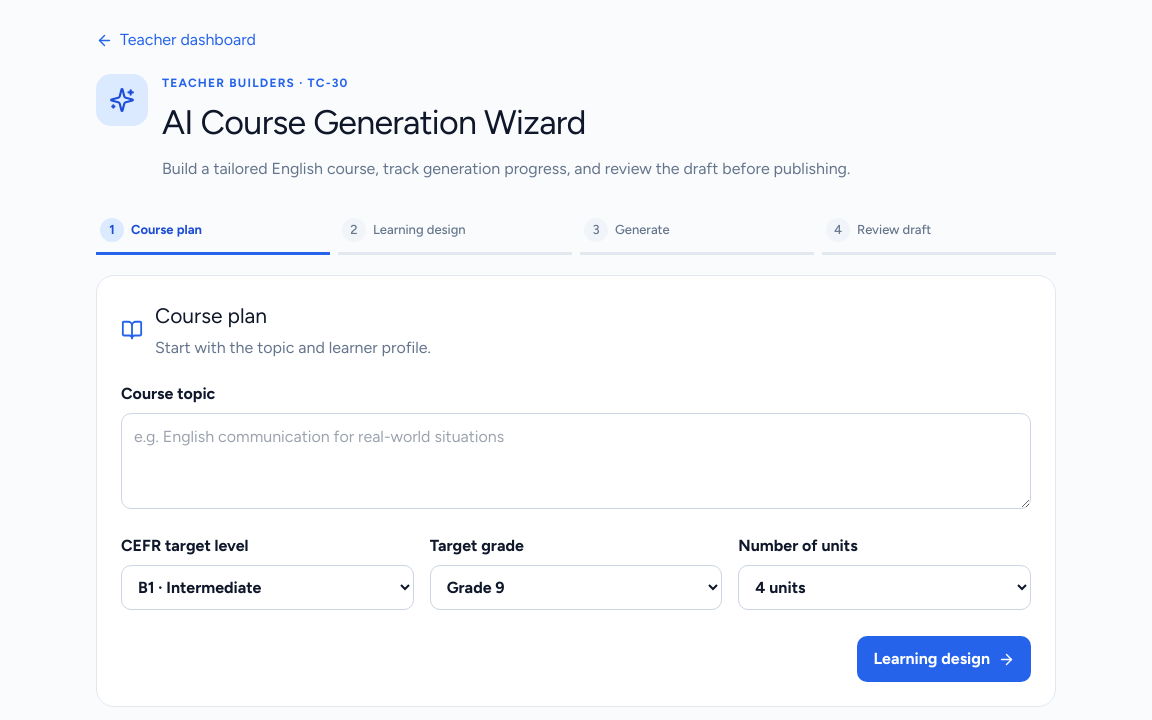
Test case: teacher AI builders integration › sends a complete AI course-generation payload and renders job-step progress
The image size is (1152, 720).
Type "Everyday English conversations" into the text box labelled "Course topic" at (576, 461), box x1=121 y1=413 x2=1031 y2=509
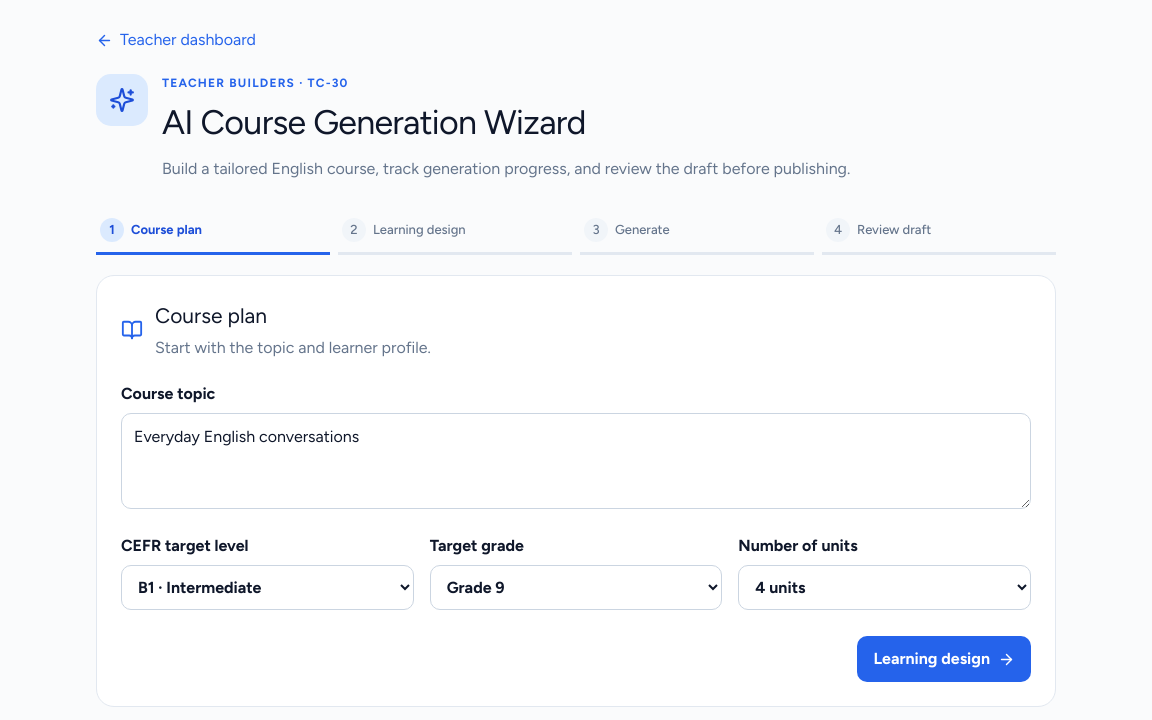
Click the button "Learning design" at (944, 659), box x1=857 y1=636 x2=1031 y2=682
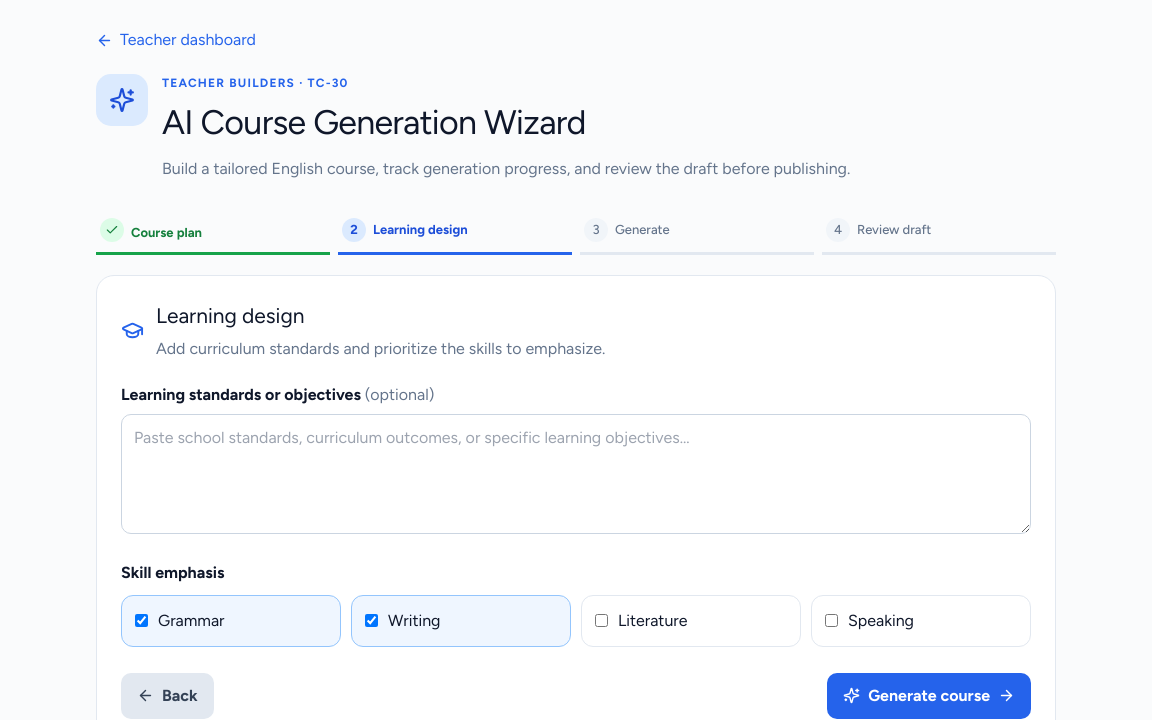
Replace the text in the text box labelled "Learning standards or objectives (optional)" with "Ask and answer polite questions" at (576, 474), box x1=121 y1=414 x2=1031 y2=534
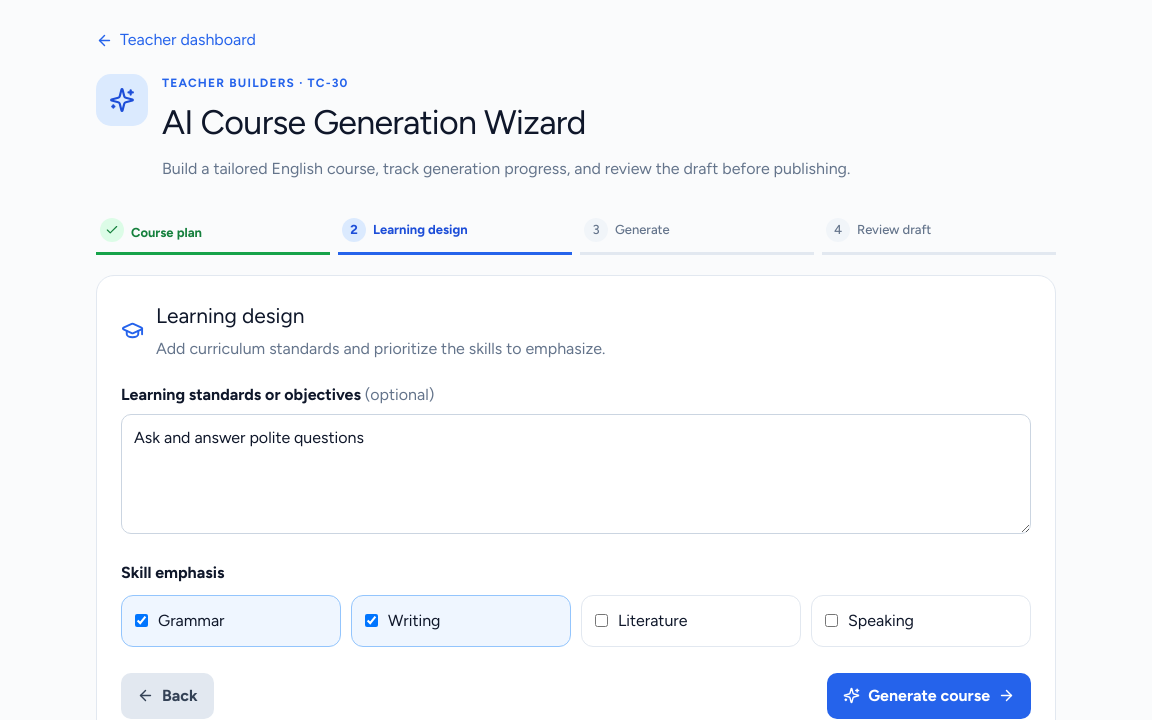
Click the button "Generate course" at (929, 696), box x1=827 y1=673 x2=1031 y2=719
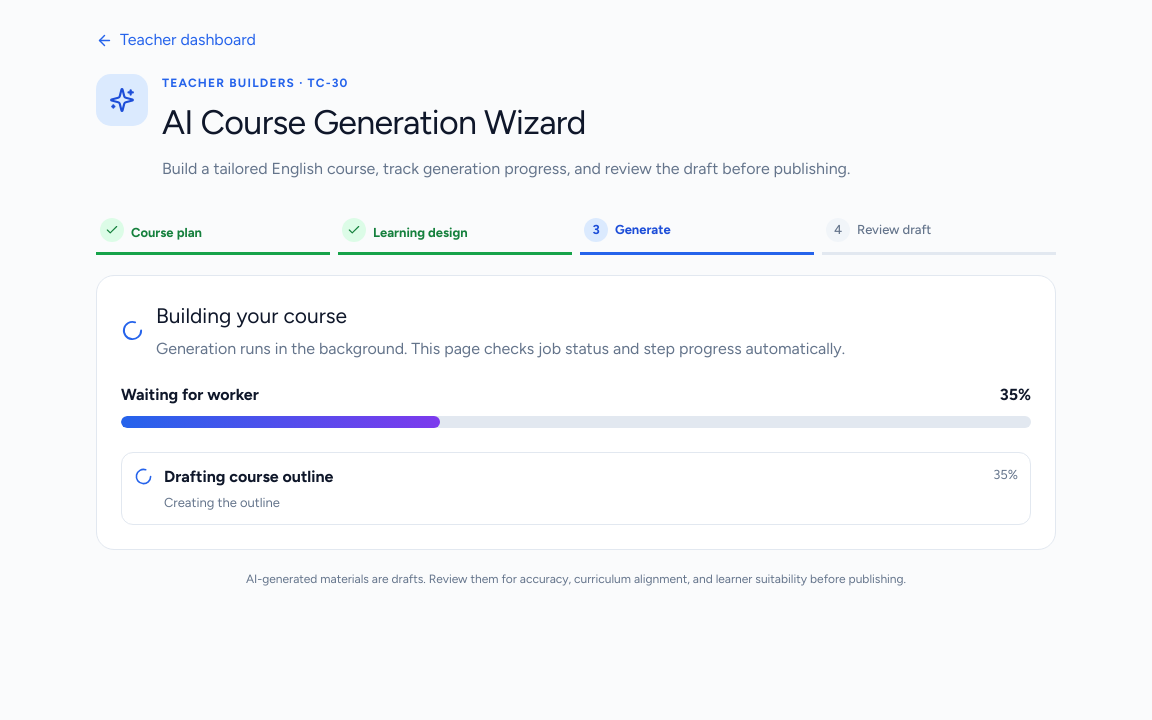
Check: the progress indicator named "Course generation progress" is shown, box x1=121 y1=416 x2=1031 y2=428
Check: the text "Creating the outline" is shown, box x1=164 y1=495 x2=280 y2=510
Check: the text "35%" in the row of "Waiting for worker" is shown, box x1=1000 y1=383 x2=1031 y2=407
